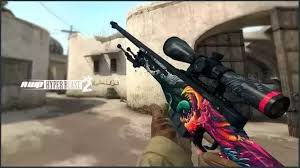gun: (108, 19, 288, 166)
